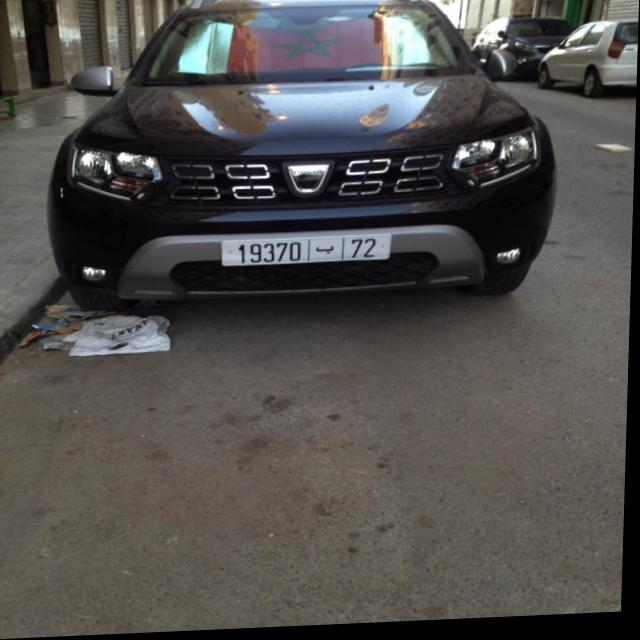License-Plate: (224, 238, 392, 268)
